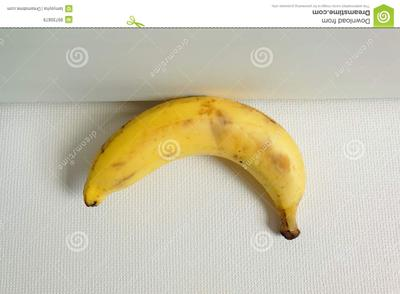banana: (0, 0, 400, 294)
